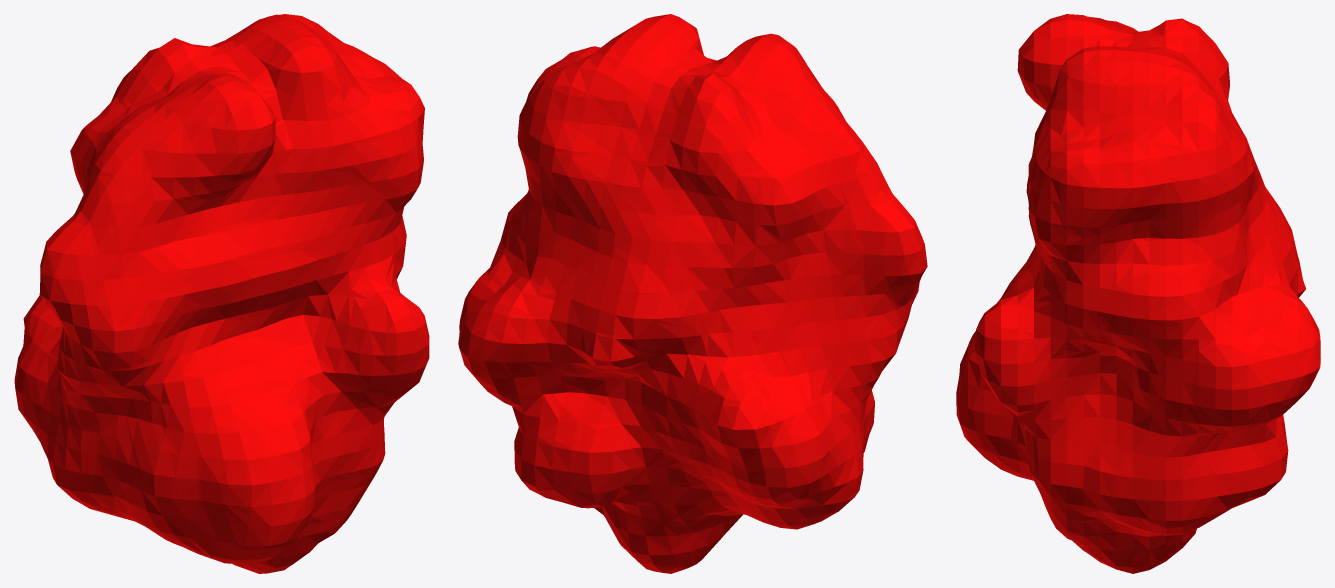
The model's file is thiL_coarse.dae.
3 views of the same model, side by side, from view 1: azimuth 30°, elevation 25°; view 2: azimuth 150°, elevation 25°; view 3: azimuth 270°, elevation 25° (orthographic).
Parts seen in each view (by area): view 1: thiL; view 2: thiL; view 3: thiL.
Boxes of the visible parts, x1,y1,x2,y2 form: thiL: [14, 14, 429, 573]; thiL: [458, 14, 927, 573]; thiL: [956, 14, 1320, 573].
Size of the model in its own units: 53.4 by 69.99 by 43.6.
